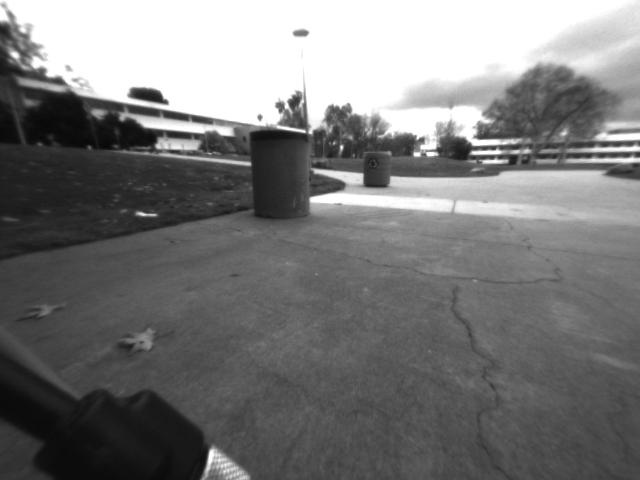trashcan: (239, 118, 316, 229), (359, 141, 397, 192)
